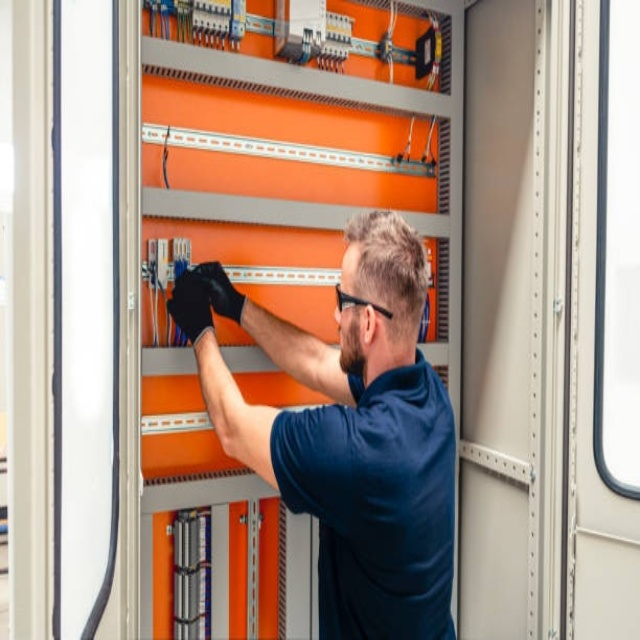Gafas: (334, 282, 395, 321)
Guantes: (191, 248, 253, 326), (165, 266, 217, 348)
Sin_mascara: (335, 318, 360, 369)
